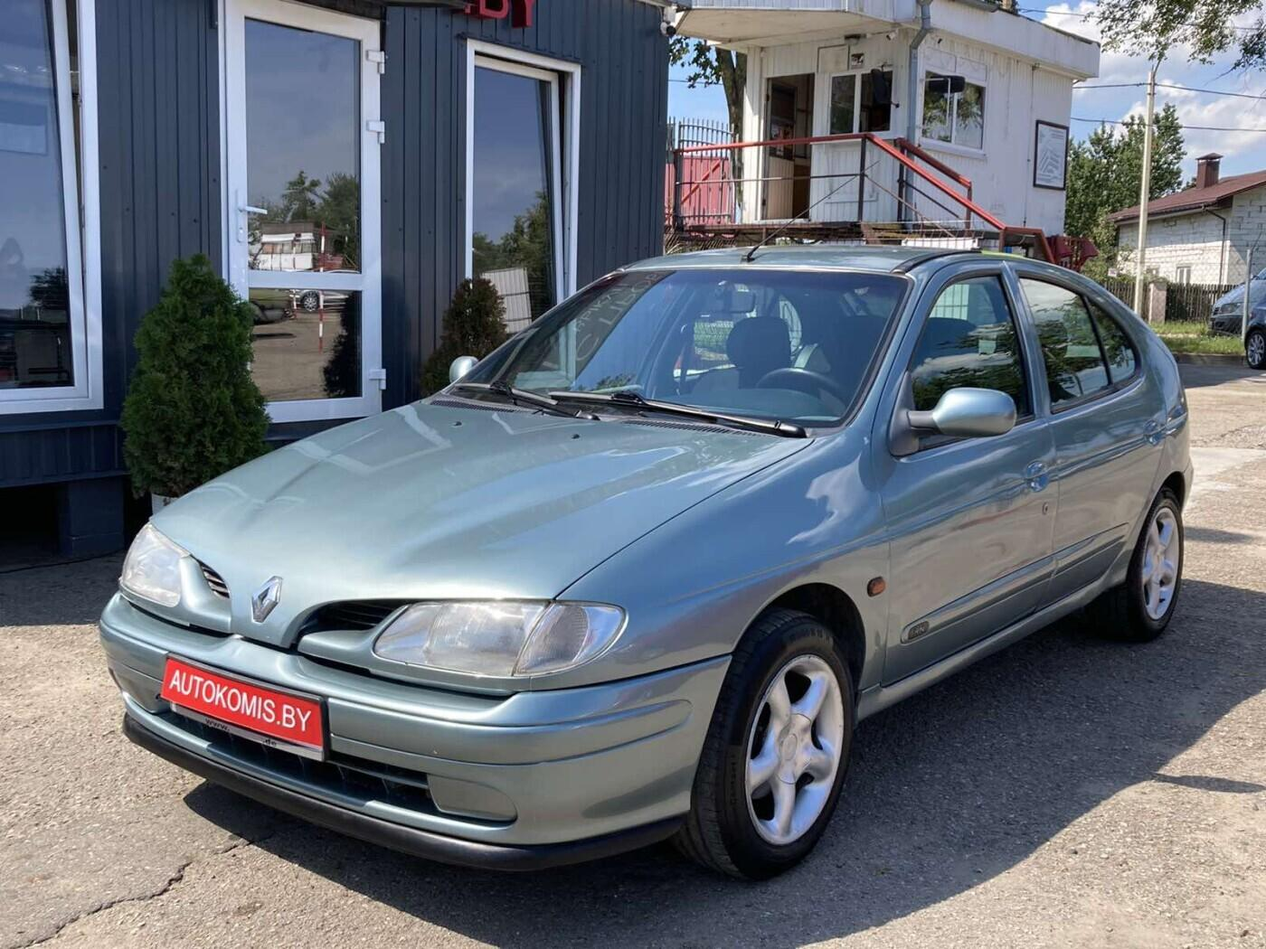Megane_1995-1999: (106, 239, 1192, 886)
